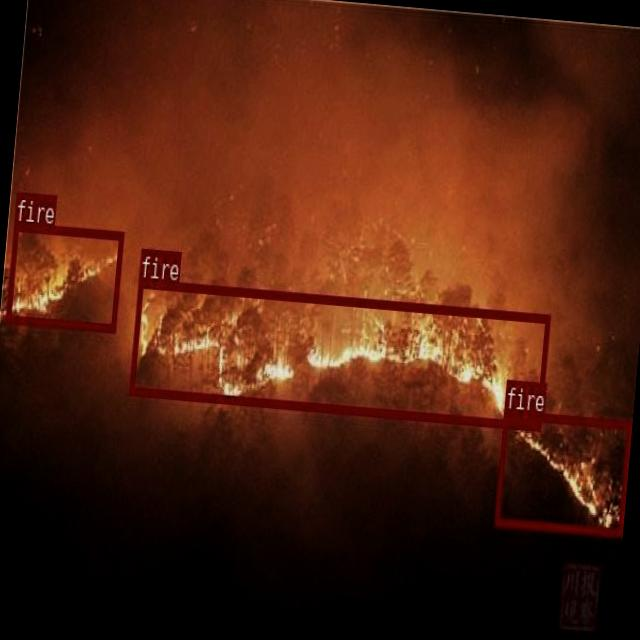fire: (128, 278, 550, 430), (493, 409, 630, 534), (4, 220, 123, 331)
